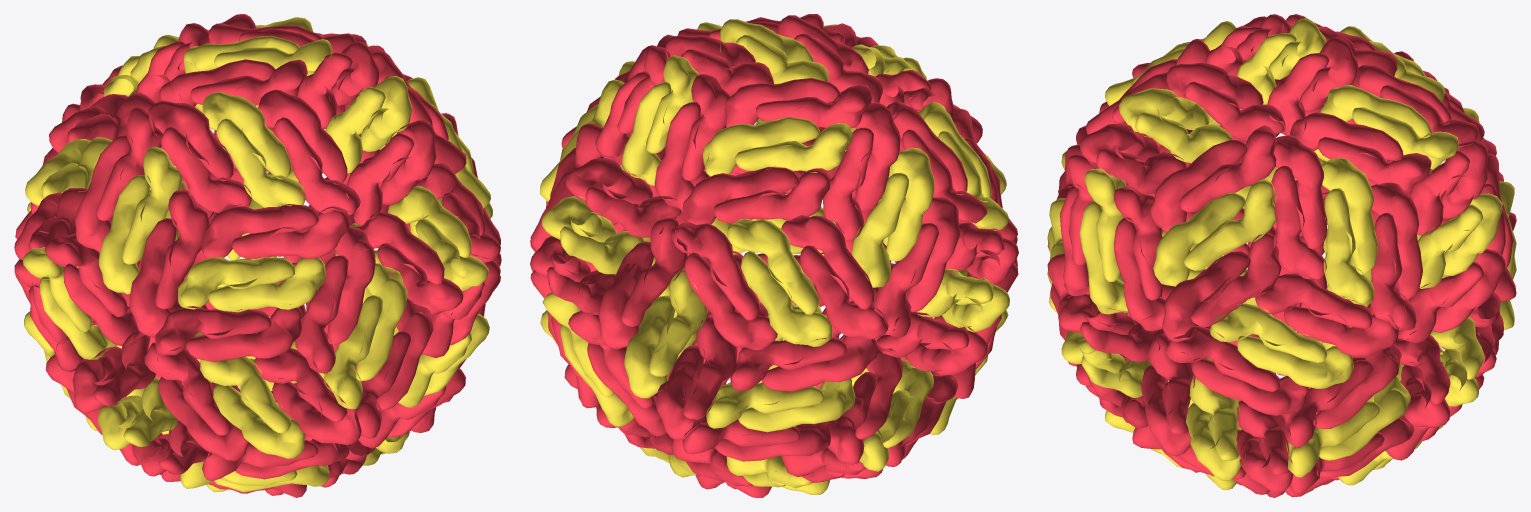
3 renders of one model, left to right at view 1: azimuth 30°, elevation 25°; view 2: azimuth 150°, elevation 25°; view 3: azimuth 270°, elevation 25°, orthographic.
Visible parts, largest first — view 1: Dengue-virus; view 2: Dengue-virus; view 3: Dengue-virus.
Part boxes in pixels (<box>): Dengue-virus: <box>14,14,501,497</box>; Dengue-virus: <box>530,14,1018,497</box>; Dengue-virus: <box>1047,14,1516,497</box>.
Bounding box in the file's own units: 51.71 × 51.7 × 51.69.
